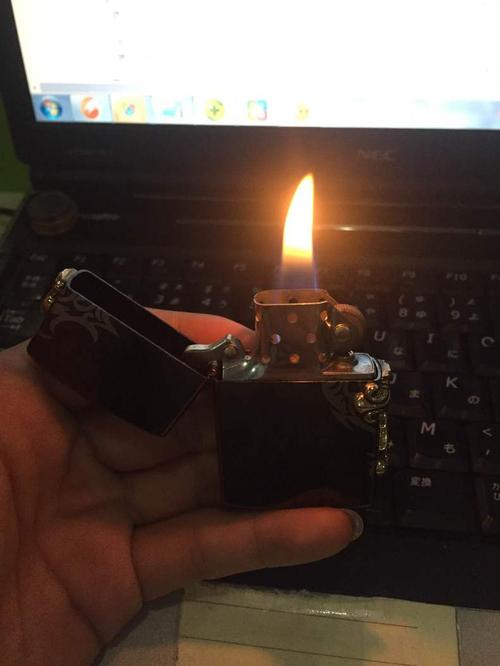fire: (237, 168, 339, 303)
